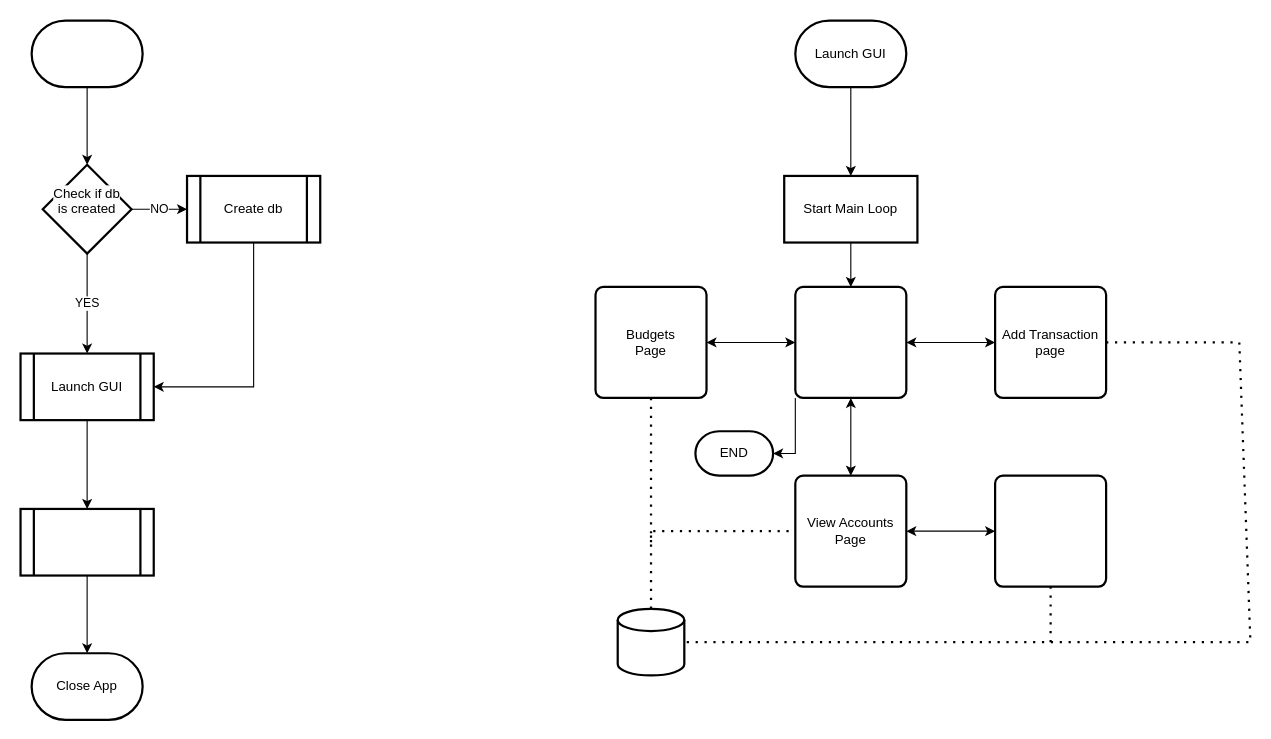
Some shapes in this 1271 by 739 pixel diagram are drawn without their labels. Each missing label, with the centre of its shape:
"Add Accounts Page" goes at [1050,530].
"DB" goes at [650,641].
"Main Loop" goes at [86,541].
"Main page" goes at [850,341].
"Start App" goes at [86,53].
